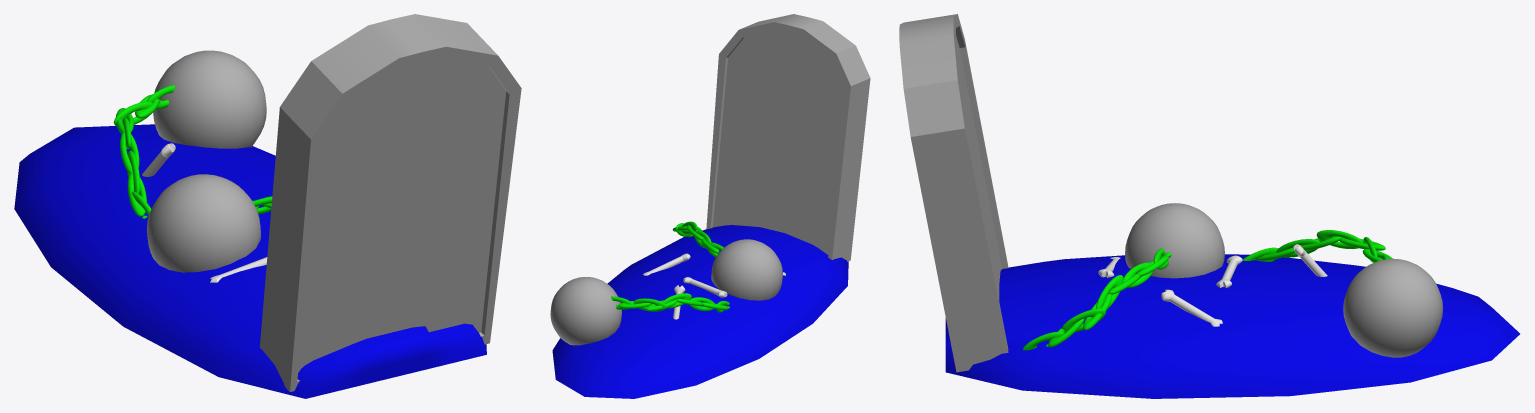
Rendered from spike factory path 2.fbx.
3 views of the same model, side by side, from view 1: azimuth 30°, elevation 25°; view 2: azimuth 150°, elevation 25°; view 3: azimuth 270°, elevation 25° (orthographic). The views are drawn at different scales.
Visible parts, largest first — view 1: spike_factory_path_2; view 2: spike_factory_path_2; view 3: spike_factory_path_2.
Part boxes in pixels (box(x1,y1,x2,y2)): spike_factory_path_2: box(14, 14, 521, 398); spike_factory_path_2: box(550, 14, 870, 398); spike_factory_path_2: box(899, 14, 1519, 398).
Bounding box in the file's own units: 233 × 257 × 469.
